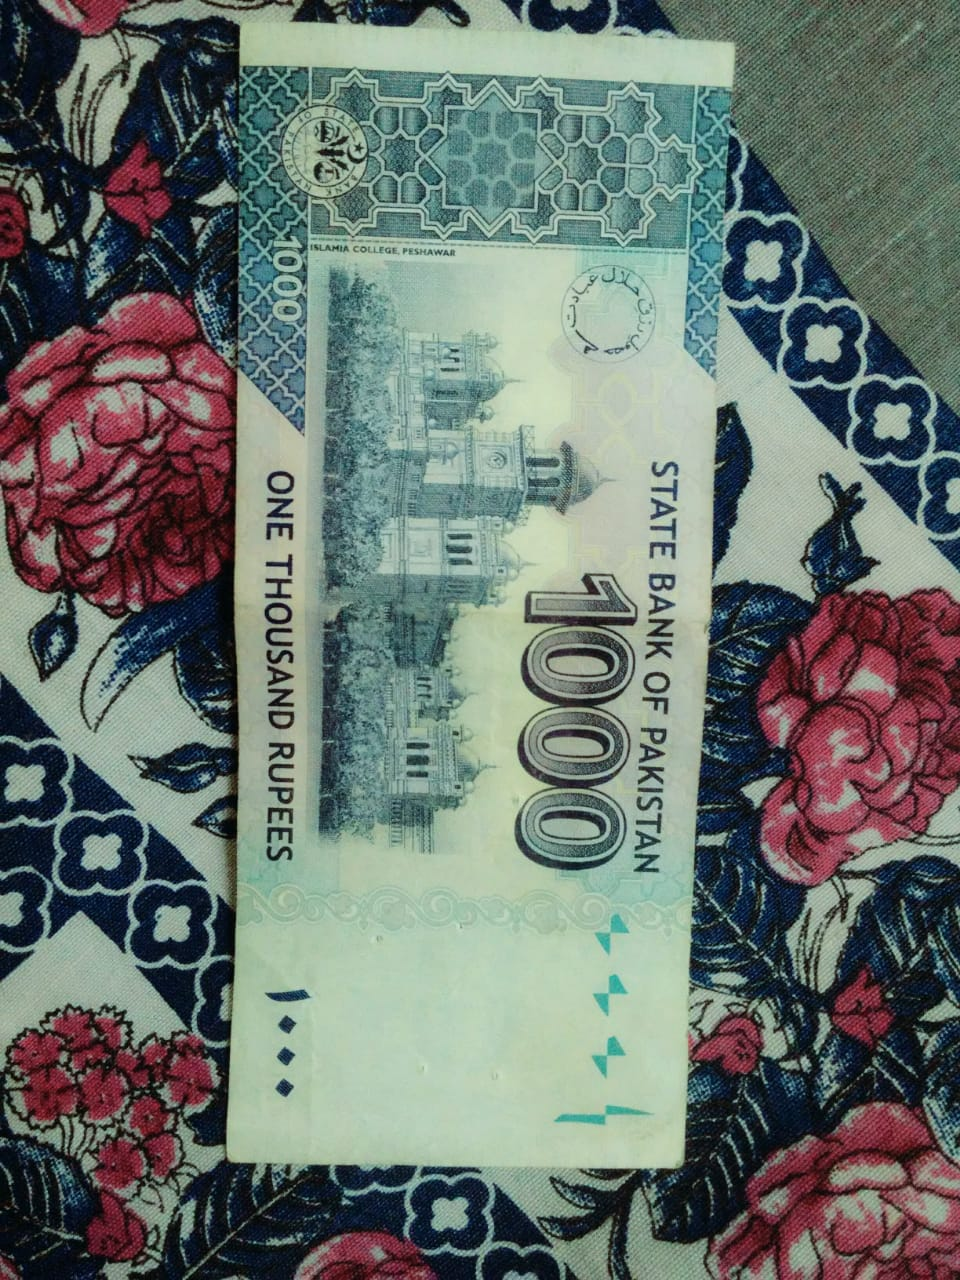1000 rupee: (189, 22, 752, 1272)
